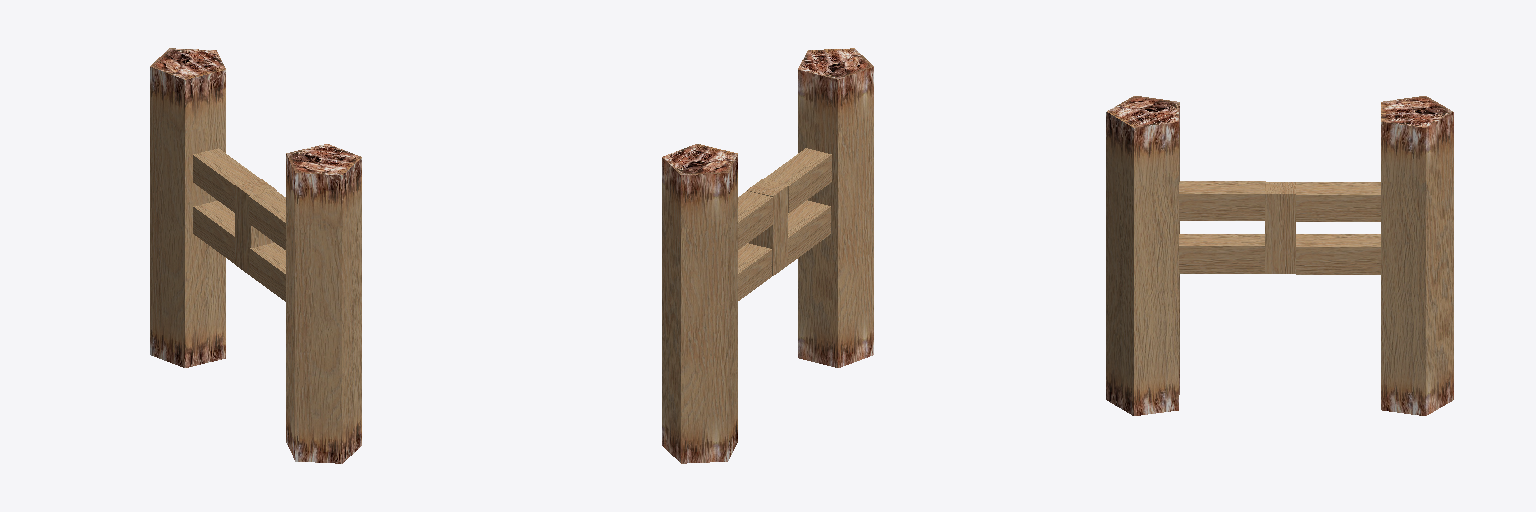
3 renders of one model, left to right at view 1: azimuth 30°, elevation 25°; view 2: azimuth 150°, elevation 25°; view 3: azimuth 270°, elevation 25°, orthographic.
Parts seen in each view (by area): view 1: Cylinder.001_Cylinder, Cylinder, Cube_Cube.001, Cube.002_Cube.001, Cube.001, Cube.003_Cube.001, Cube.004_Cube.001; view 2: Cylinder, Cylinder.001_Cylinder, Cube.003_Cube.001, Cube.002_Cube.001, Cube.004_Cube.001, Cube_Cube.001, Cube.001; view 3: Cylinder.001_Cylinder, Cylinder, Cube.001, Cube.003_Cube.001, Cube.004_Cube.001, Cube_Cube.001, Cube.002_Cube.001.
Part boxes in pixels (x1,y1,x2,y2): Cylinder.001_Cylinder: (286, 144, 361, 463); Cylinder: (150, 48, 225, 367); Cube_Cube.001: (193, 148, 259, 212); Cube.002_Cube.001: (235, 179, 276, 274); Cube.001: (193, 201, 234, 263); Cube.003_Cube.001: (249, 190, 285, 249); Cube.004_Cube.001: (250, 243, 285, 301); Cylinder: (662, 144, 737, 463); Cylinder.001_Cylinder: (798, 48, 873, 367); Cube.003_Cube.001: (764, 148, 831, 212); Cube.002_Cube.001: (747, 179, 787, 275); Cube.004_Cube.001: (788, 200, 830, 264); Cube_Cube.001: (738, 191, 772, 249); Cube.001: (738, 243, 771, 300); Cylinder.001_Cylinder: (1106, 96, 1179, 415); Cylinder: (1381, 96, 1453, 415); Cube.001: (1296, 234, 1380, 274); Cube.003_Cube.001: (1179, 181, 1265, 220); Cube.004_Cube.001: (1179, 234, 1264, 273); Cube_Cube.001: (1296, 182, 1380, 221); Cube.002_Cube.001: (1265, 182, 1295, 273).
Bounding box in the file's own units: 0.8319 × 3.45 × 3.76.
2 materials, 1 textured.